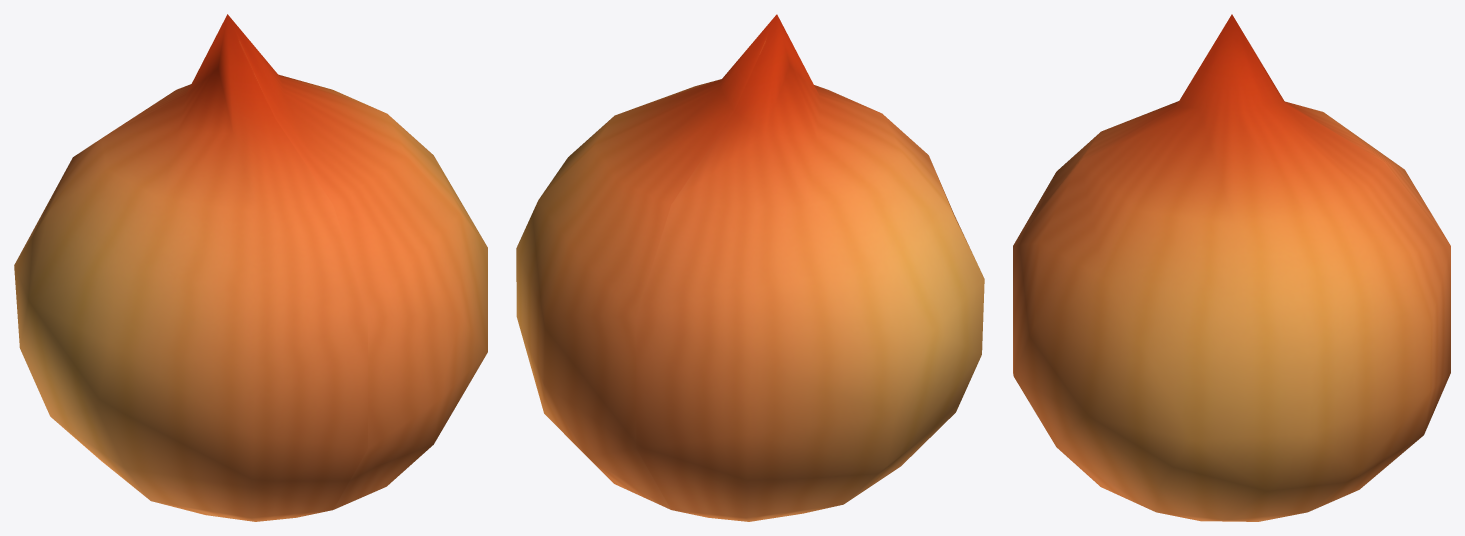
The model's file is FOD0110015.fbx.
The picture shows the model from 3 angles, left to right: view 1: azimuth 30°, elevation 25°; view 2: azimuth 150°, elevation 25°; view 3: azimuth 270°, elevation 25°; orthographic projection. The views are drawn at different scales.
Visible parts, largest first — view 1: smFOD0110015; view 2: smFOD0110015; view 3: smFOD0110015.
Boxes of the visible parts, box(x1,y1,x2,y2) form: smFOD0110015: box(14, 14, 487, 521); smFOD0110015: box(516, 14, 984, 521); smFOD0110015: box(1013, 14, 1450, 521).
Size of the model in its own units: 7.66 by 8.56 by 7.33.
Materials: 1 (1 with a texture image).
